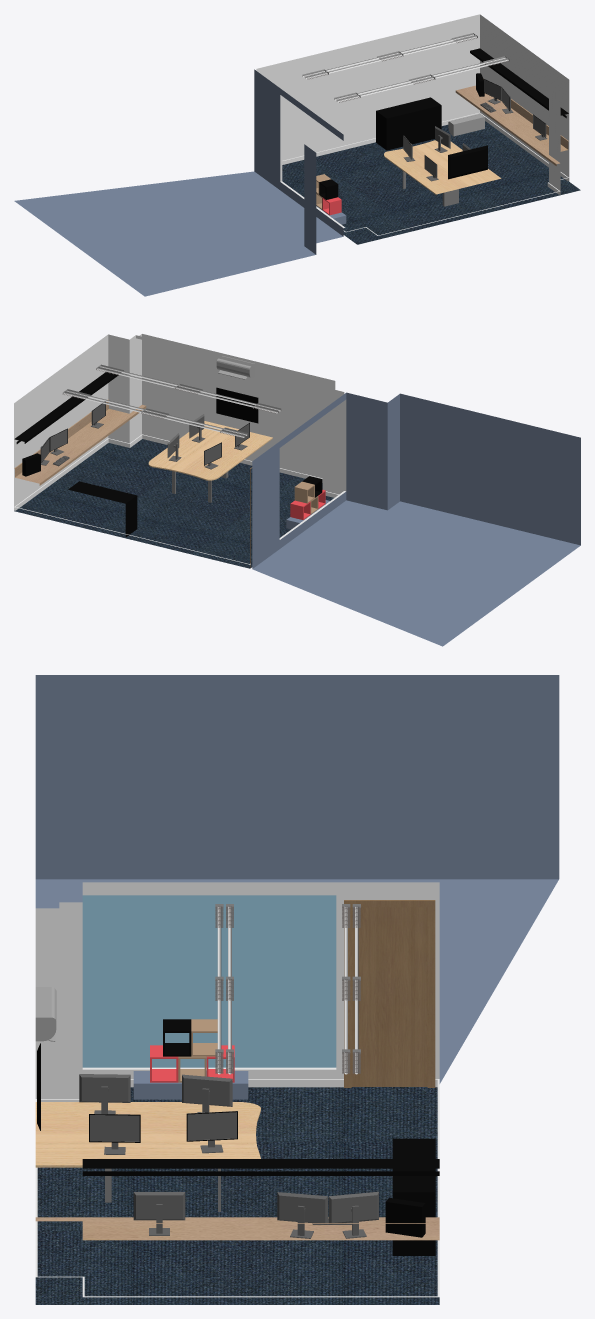
3 views of the same model, one above another, from view 1: azimuth 30°, elevation 25°; view 2: azimuth 150°, elevation 25°; view 3: azimuth 270°, elevation 25° (orthographic). The views are drawn at different scales.
Visible parts, largest first — view 1: Cozinha, Parede1, Chao, Parede2, Armario, Mesa, Bancada, lampadas, roda pe, Parede3, Tv, Bancada Top (+3 smaller); view 2: Cozinha, Chao, Parede3, Parede2, Mesa, Parede4, Bancada, lampadas, roda pe, Bancada Top, Armario, Tv (+2 smaller); view 3: Cozinha, Chao, Janela, Porta, Mesa, Parede4, Parede3, Bancada, Bancada Top, Armario, roda pe, lampadas (+12 smaller).
Part boxes in pixels (<box>): Cozinha: <box>14,69,343,296</box>; Parede1: <box>256,14,479,160</box>; Chao: <box>282,121,580,244</box>; Parede2: <box>480,14,569,181</box>; Armario: <box>376,97,441,150</box>; Mesa: <box>384,140,501,194</box>; Bancada: <box>455,85,568,165</box>; lampadas: <box>303,34,508,102</box>; roda pe: <box>282,112,568,235</box>; Parede3: <box>549,85,560,194</box>; Tv: <box>448,145,487,179</box>; Bancada Top: <box>470,48,568,118</box>; Cozinha: <box>252,392,580,646</box>; Chao: <box>14,439,333,568</box>; Parede3: <box>129,334,335,478</box>; Parede2: <box>14,334,129,510</box>; Mesa: <box>148,421,272,480</box>; Parede4: <box>279,387,346,539</box>; Bancada: <box>14,399,146,485</box>; lampadas: <box>64,365,280,437</box>; roda pe: <box>14,434,338,564</box>; Bancada Top: <box>14,371,118,443</box>; Armario: <box>68,481,137,536</box>; Tv: <box>216,387,258,423</box>; Cozinha: <box>35,675,559,1083</box>; Chao: <box>35,1087,439,1304</box>; Janela: <box>83,895,335,1067</box>; Porta: <box>344,900,435,1087</box>; Mesa: <box>35,1102,260,1167</box>; Parede4: <box>82,882,439,1078</box>; Parede3: <box>35,902,82,1098</box>; Bancada: <box>35,1217,439,1240</box>; Bancada Top: <box>82,1159,439,1175</box>; Armario: <box>392,1138,435,1255</box>; roda pe: <box>35,1079,439,1297</box>; lampadas: <box>217,906,358,1074</box>.
Bounding box in the file's own units: 10.73 × 2.45 × 5.58.
Materials: 20 (4 with a texture image).
